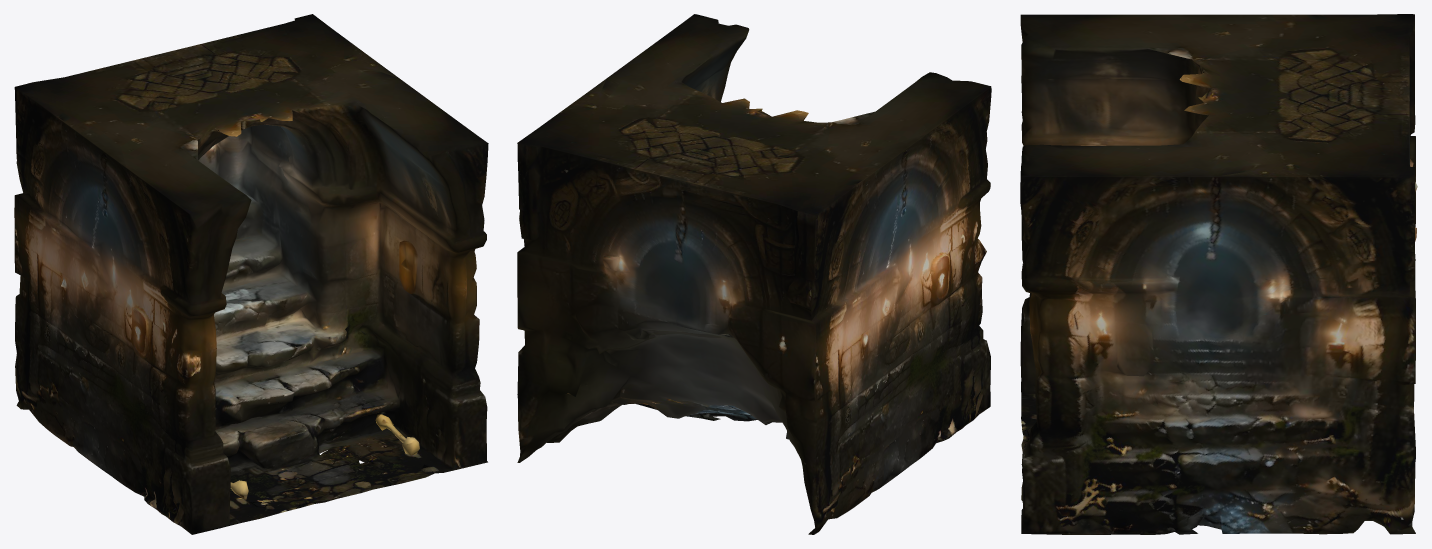
Rendered from stair.fbx.
3 views of the same model, side by side, from view 1: azimuth 30°, elevation 25°; view 2: azimuth 150°, elevation 25°; view 3: azimuth 270°, elevation 25° (orthographic). The views are drawn at different scales.
Parts seen in each view (by area): view 1: tripo_node_ab75c8dc; view 2: tripo_node_ab75c8dc; view 3: tripo_node_ab75c8dc.
Part boxes in pixels (bbox=[...]): tripo_node_ab75c8dc: bbox=[14, 14, 488, 534]; tripo_node_ab75c8dc: bbox=[517, 14, 991, 534]; tripo_node_ab75c8dc: bbox=[1020, 14, 1417, 534].
Size of the model in its own units: 0.9818 by 1 by 0.9994.
Materials: 1 (1 with a texture image).
